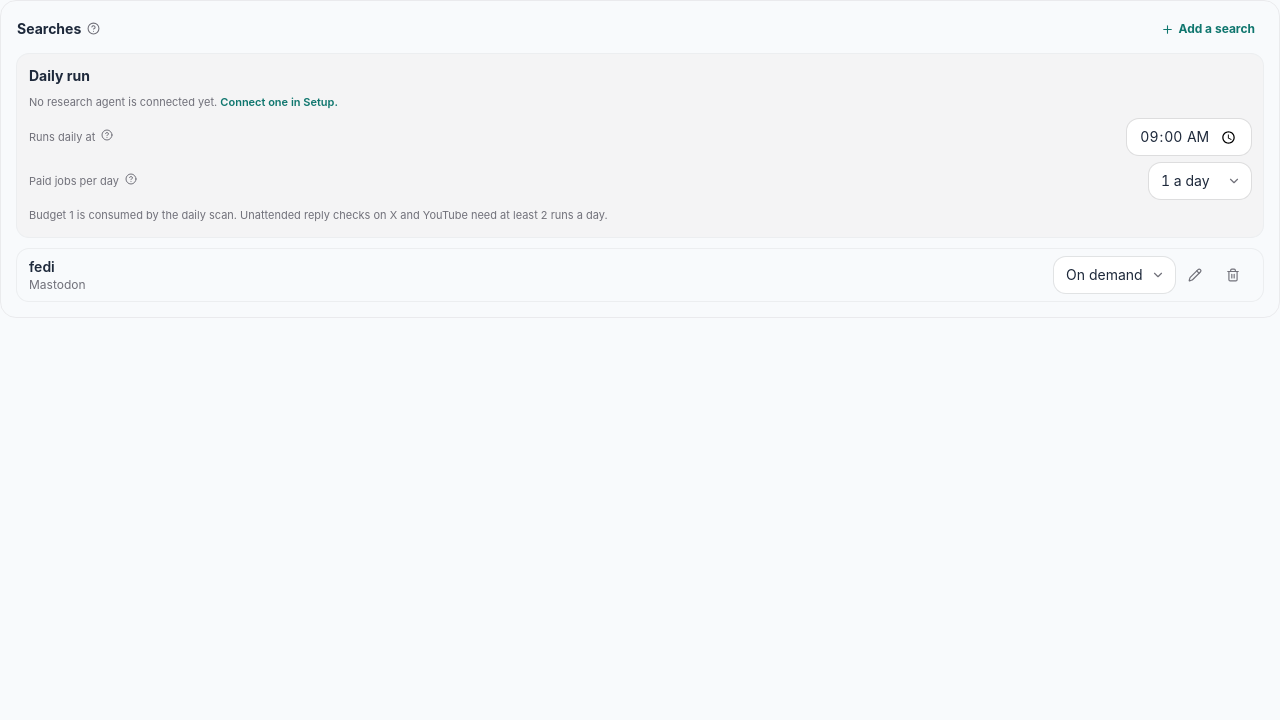
RadarSearches query editor › hides Subreddits for a non-reddit query and shows Hashtags for mastodon/bluesky
Click the button named "edit query": point(1195, 275) x1=1177 y1=257 x2=1213 y2=293
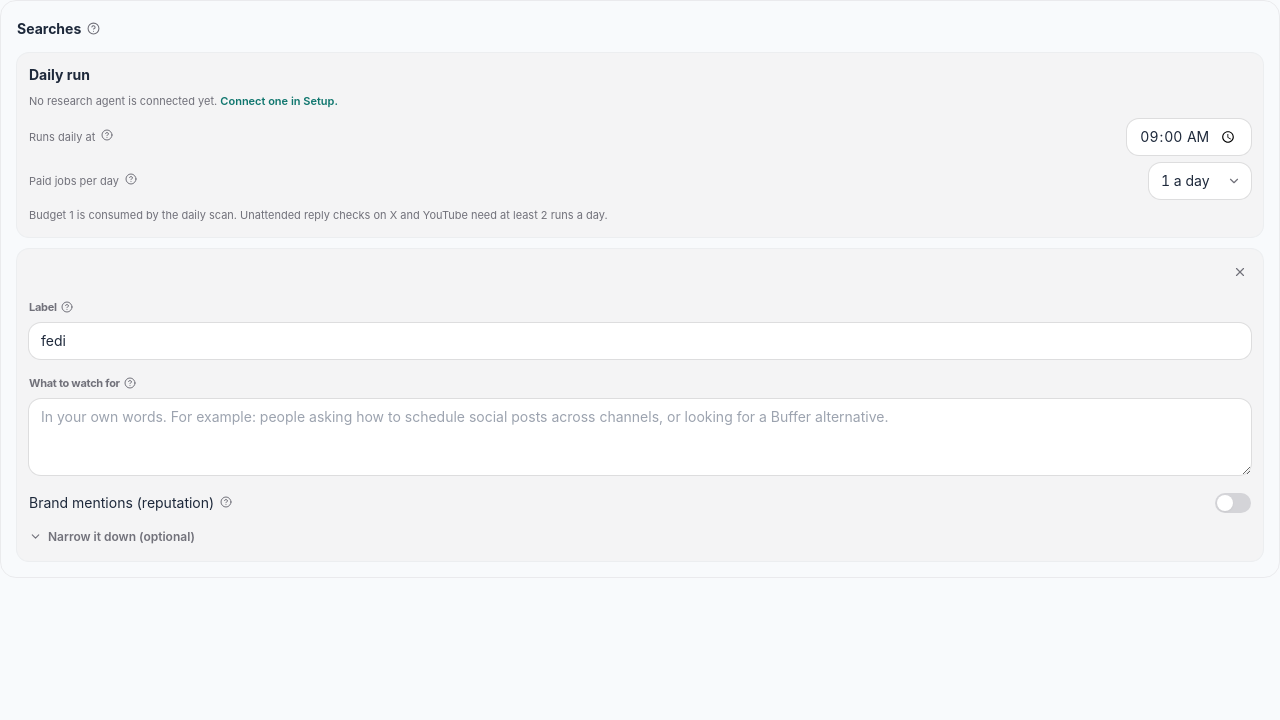
Check: the element with placeholder "socialmedia, marketing" is shown, box x1=29 y1=529 x2=195 y2=544
